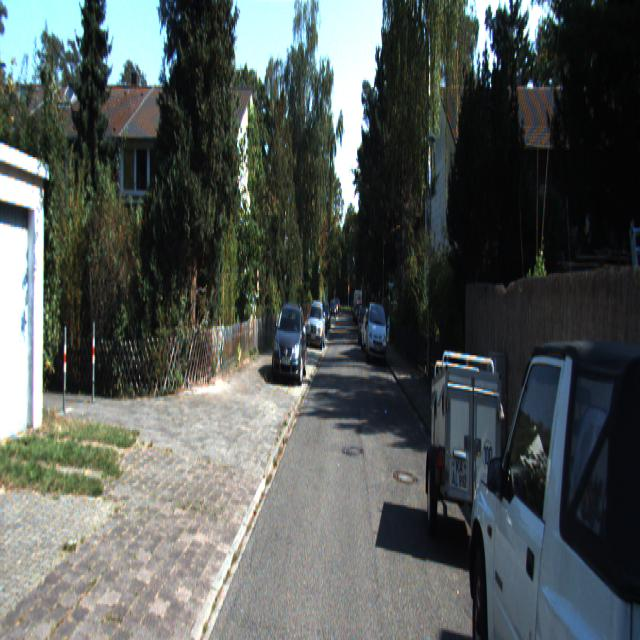Car: (468, 319, 639, 638), (428, 342, 506, 568), (272, 300, 306, 384), (366, 302, 387, 365), (306, 302, 326, 348)
